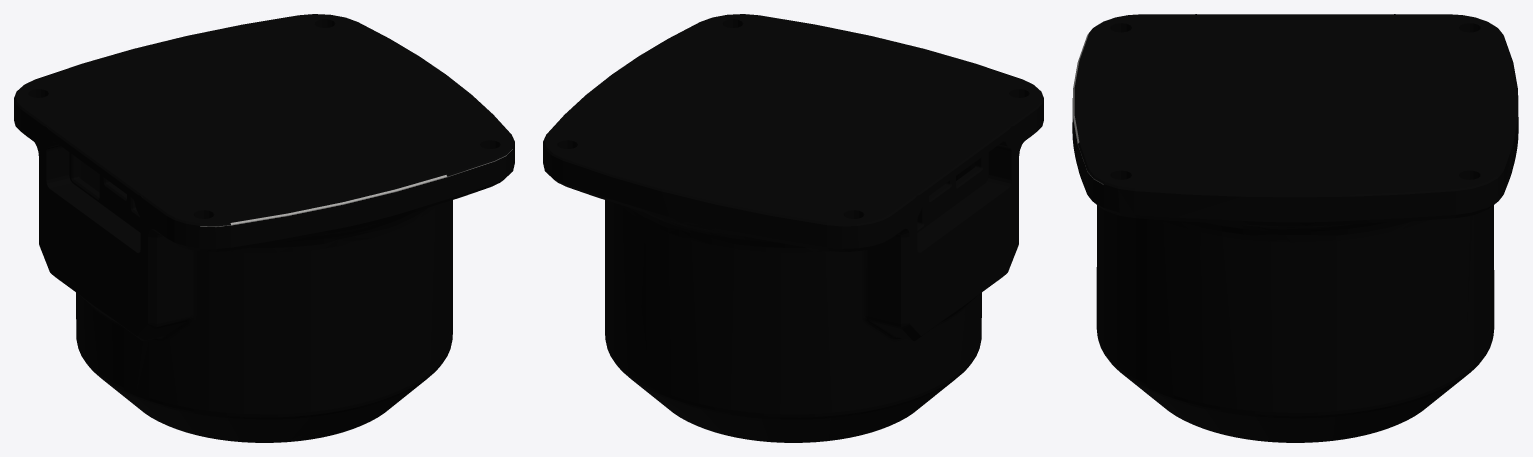
File: right_arm_base_link.usd.sapien.glb
The picture shows the model from 3 angles, left to right: view 1: azimuth 30°, elevation 25°; view 2: azimuth 150°, elevation 25°; view 3: azimuth 270°, elevation 25°; orthographic projection. The views are drawn at different scales.
Parts seen in each view (by area): view 1: Mesh; view 2: Mesh; view 3: Mesh.
Boxes of the visible parts, x1,y1,x2,y2 form: Mesh: (14,14,514,442); Mesh: (543,14,1043,442); Mesh: (1072,14,1518,442).
Bounding box in the file's own units: 0.1237 × 0.0892 × 0.128.
1 material, 1 textured.
